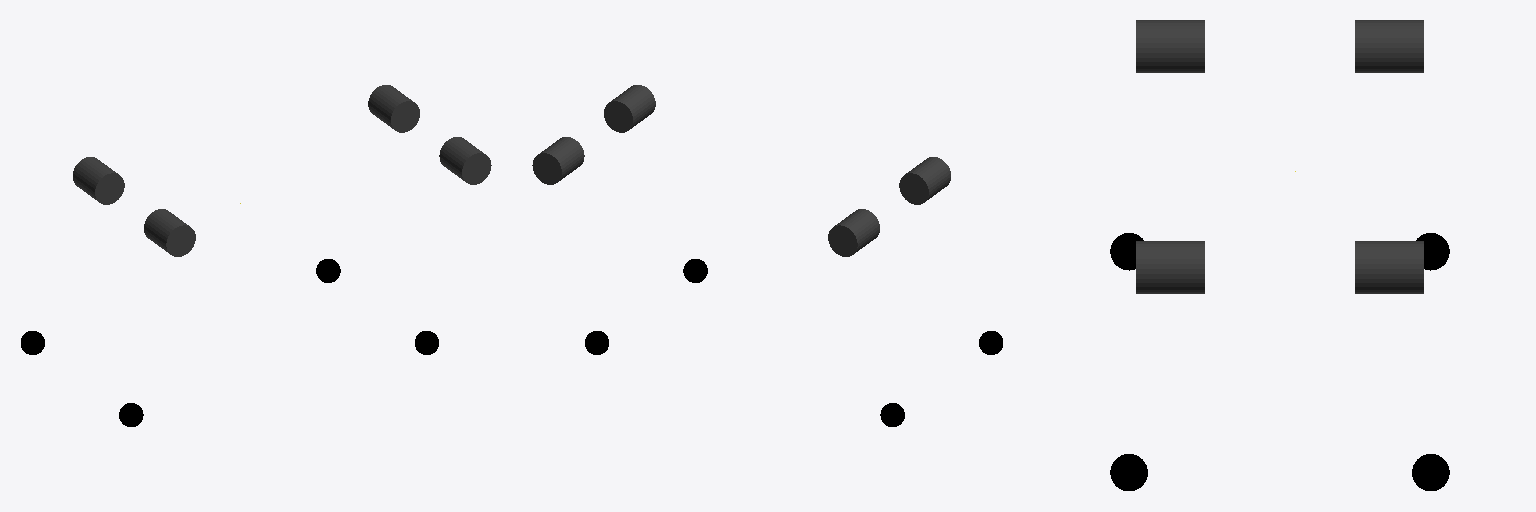
--- Facts derived from the render (not from the file) ---
The picture shows the robot from 3 angles, left to right: view 1: azimuth 30°, elevation 25°; view 2: azimuth 150°, elevation 25°; view 3: azimuth 270°, elevation 25°; orthographic projection.
Robot: hyqreal — 43 links, 42 joints (12 revolute, 30 fixed); root link base; default pose: joints at zero except 8 at the middle of their limits (FL_thigh_joint = 1.22, FL_calf_joint = -1.72, FR_thigh_joint = 1.22, FR_calf_joint = -1.72, RL_thigh_joint = 1.22, RL_calf_joint = -1.72, +2 more).
Links seen in each view (by area): view 1: RR_hip, FL_hip, FR_hip, RL_hip; view 2: RL_hip, FR_hip, FL_hip, RR_hip; view 3: FL_hip, FR_hip, RL_hip, RR_hip, FL_foot, FR_foot, RL_foot, RR_foot.
Link boxes in pixels (<box>): RR_hip: <box>144,209,195,256</box>; FL_hip: <box>368,85,419,132</box>; FR_hip: <box>439,137,491,184</box>; RL_hip: <box>73,157,124,204</box>; RL_hip: <box>828,209,879,256</box>; FR_hip: <box>604,85,655,132</box>; FL_hip: <box>532,137,584,184</box>; RR_hip: <box>899,157,950,204</box>; FL_hip: <box>1355,241,1423,293</box>; FR_hip: <box>1136,241,1204,293</box>; RL_hip: <box>1355,20,1423,72</box>; RR_hip: <box>1136,20,1204,72</box>; FL_foot: <box>1412,454,1449,490</box>; FR_foot: <box>1110,454,1147,490</box>; RL_foot: <box>1416,233,1449,270</box>; RR_foot: <box>1110,233,1143,270</box>.
Bounding box of the posed robot: 1.12 × 0.576 × 0.5332 m (x, y, z).
Meshes: 5 distinct files referenced, 0 mesh visuals loaded (none loaded); not drawn: 12 (reference not matched to a file when rendering).

URDF robot description (hyqreal):
<?xml version="1.0" ?>
<!-- =================================================================================== -->
<!-- |    This document was autogenerated by xacro from hyqreal.urdf.xacro             | -->
<!-- |    EDITING THIS FILE BY HAND IS NOT RECOMMENDED                                 | -->
<!-- =================================================================================== -->
<robot name="hyqreal" xmlns:xacro="http://ros.org/wiki/xacro">
  <!-- standard distances -->
  <!-- <xacro:property name="d_lr" value="0.414"/>
	<xacro:property name="d_fh" value="0.747"/> -->
  <!-- 0.887 1.4192-->
  <!-- ============================ IMU KVH 1775 ========================
         The xacro macro xacro:kvh_1775_imu describes the KVH 1775 IMU,
         together with its frames of reference.
         The IMU has three axes oriented along the diagonal of the mounting
         screws at the bottom, as described at page 6 of the technical manual.
         These axes have three different origins for the sensing points, one
         per axis. Therefore, we define a common origin which is located at the
         average of these three. For completeness, we include the three exact
         axes as well. -->
  <material name="aluminum">
    <color rgba="0.5 0.5 0.5 1"/>
  </material>
  <material name="black">
    <color rgba="0.0 0.0 0.0 1.0"/>
  </material>
  <material name="blue">
    <color rgba="0.0 0.0 0.8 1.0"/>
  </material>
  <material name="green">
    <color rgba="0.0 0.8 0.0 1.0"/>
  </material>
  <material name="grey">
    <color rgba="0.3 0.3 0.3 0.8"/>
  </material>
  <material name="silver">
    <color rgba="0.913725490196 0.913725490196 0.847058823529 1.0"/>
  </material>
  <material name="orange">
    <color rgba="1.0 0.423529411765 0.0392156862745 1.0"/>
  </material>
  <material name="brown">
    <color rgba="0.870588235294 0.811764705882 0.764705882353 1.0"/>
  </material>
  <material name="red">
    <color rgba="0.8 0.0 0.0 1.0"/>
  </material>
  <material name="white">
    <color rgba="1.0 1.0 1.0 1.0"/>
  </material>
  <!--xacro:include filename="$(find sensors_description)/urdfs/sensors/vlp16.urdf.xacro"/-->
  
  <!-- Floating-base Joint -->
  <link name="base">
    <visual>
      <origin rpy="0 0 0" xyz="0 0 0"/>
      <geometry>
        <box size="0.001 0.001 0.001"/>
      </geometry>
    </visual>
  </link>
  <joint name="floating_base" type="fixed">
    <origin rpy="0 0 0" xyz="0 0 0"/>
    <parent link="base"/>
    <child link="trunk"/>
  </joint>
  <!-- Trunk link -->
  <link name="trunk">
    <inertial>
      <origin xyz="-0.015 -0.00186 -0.03465"/>
      <mass value="59"/>
      <inertia ixx="1.498728" ixy="-0.007369" ixz="-0.189135" iyy="9.492381" iyz="0.000185" izz="9.012359"/>
    </inertial>
    <visual>
      <origin rpy="0 0 3.14159265359" xyz="0 0 0"/>
      <geometry>
        <mesh filename="meshes/trunk/combined_torso.dae" scale="0.001 0.001 0.001"/>
      </geometry>
      <material name="grey"/>
    </visual>
    <collision>
      <origin rpy="0 0 3.14159265359" xyz="0 0 0"/>
      <geometry>
        <mesh filename="meshes/trunk/combined_torso_decimated.obj" scale="0.001 0.001 0.001"/>
      </geometry>
    </collision>
  </link>

  <!-- Joints -->
  <!-- hip joint -->
  <joint name="FL_hip_joint" type="revolute">
    <origin rpy="3.14159265359 1.57079632679 0" xyz="0.4435 0.139 0"/>
    <parent link="trunk"/>
    <child link="FL_hip"/>
    <axis xyz="0 0 1"/>
    <dynamics damping="0.1" friction="0"/>
    <limit effort="173.0" lower="-0.733038285838" upper="0.401425727959" velocity="12.0"/>
    <safety_controller k_position="50" k_velocity="10" soft_lower_limit="-0.733038285838" soft_upper_limit="0.401425727959"/>
  </joint>
  <!-- HFE joint -->
  <joint name="FL_thigh_joint" type="revolute">
    <origin rpy="1.57079632679 0 0" xyz="0 -0.117 0"/>
    <parent link="FL_hip"/>
    <child link="FL_thigh"/>
    <axis xyz="0 0 1"/>
    <dynamics damping="0.1" friction="0"/>
    <limit effort="208" lower="0.261799387799" upper="2.18166156499" velocity="12.0"/>
    <safety_controller k_position="50" k_velocity="10" soft_lower_limit="0.261799387799" soft_upper_limit="2.18166156499"/>
  </joint>
  <!-- KFE joint -->
  <joint name="FL_calf_joint" type="revolute">
    <origin rpy="0 0 0" xyz="0.36 0 0"/>
    <parent link="FL_thigh"/>
    <child link="FL_calf"/>
    <axis xyz="0 0 1"/>
    <dynamics damping="0.1" friction="0"/>
    <limit effort="249" lower="-2.77001205584" upper="-0.669857366915" velocity="12.0"/>
    <safety_controller k_position="50.0" k_velocity="10.0" soft_lower_limit="-2.77001205584" soft_upper_limit="-0.669857366915"/>
  </joint>
  <!-- Foot joint -->
  <joint name="FL_foot_fixed" type="fixed">
    <origin rpy="1.57079632679 0 -1.57079632679" xyz="0.38 0 0"/>
    <parent link="FL_calf"/>
    <child link="FL_foot"/>
  </joint>
  <!-- Links -->
  <!-- Hip assembly link -->
  <link name="FL_hip">
    <inertial>
      <origin xyz="-0.010027 -0.010608 0.003644"/>
      <mass value="4.973275"/>
      <inertia ixx="0.011231" ixy="-0.000592" ixz="0.000225" iyy="0.015768" iyz="0.000224" izz="0.016863"/>
    </inertial>
    <visual>
      <origin rpy="0 -1.57079632679 -1.57079632679" xyz="0 -0.046 0"/>
      <geometry>
         --&gt;
				
        <cylinder length="0.117" radius="0.0444"/>
      </geometry>
      <material name="grey"/>
    </visual>
  </link>
  <!-- Upper leg link -->
  <link name="FL_thigh">
    <inertial>
      <origin xyz="0.107987 -0.011459 -0.002121"/>
      <mass value="5.877927"/>
      <inertia ixx="0.016432" ixy="0.001863" ixz="0.003897" iyy="0.075737" iyz="-0.00024" izz="0.079267"/>
    </inertial>
    <visual>
      <origin rpy="0 0 0" xyz="0 0 0"/>
      <geometry>
        <mesh filename="meshes/leg/upperleg.dae" scale="0.001 0.001 0.001"/>
      </geometry>
      <material name="grey"/>
    </visual>
    <collision>
      <origin rpy="0 0 0" xyz="0 0 0"/>
      <geometry>
        <mesh filename="meshes/leg/upperleg.obj" scale="0.001 0.001 0.001"/>
      </geometry>
    </collision>
  </link>
  <!-- Lower leg link -->
  <link name="FL_calf">
    <inertial>
      <origin xyz="0.149302 -0.003801 -0.000624"/>
      <mass value="1.291954"/>
      <inertia ixx="0.001088" ixy="-0.000572" ixz="0.000118" iyy="0.029215" iyz="0.00046" izz="0.029772"/>
    </inertial>
    <visual>
      <origin rpy="0 0 0" xyz="0 0 0"/>
      <geometry>
        <mesh filename="meshes/leg/lowerleg.dae" scale="0.001 0.001 0.001"/>
      </geometry>
      <material name="white"/>
    </visual>
    <collision>
      <origin rpy="0 0 0" xyz="0 0 0"/>
      <geometry>
        <mesh filename="meshes/leg/lowerleg_decimated.obj" scale="0.001 0.001 0.001"/>
      </geometry>
    </collision>
  </link>
  <!-- Foot link -->
  <link name="FL_foot">
    <visual>
      <origin rpy="0.0 0.0 0.0" xyz="0.0 0.0 0.0"/>
      <geometry>
        <sphere radius="0.032"/>
      </geometry>
      <material name="black"/>
    </visual>
    <collision>
      <origin rpy="0 0 0" xyz="0 0 0"/>
      <geometry>
        <sphere radius="0.032"/>
      </geometry>
    </collision>
  </link>
  <!-- Hip assembly -->
  <transmission name="FL_hip_trans">
    <type>transmission_interface/SimpleTransmission</type>
    <joint name="FL_hip_joint">
      <hardwareInterface>hardware_interface/EffortJointInterface</hardwareInterface>
    </joint>
    <actuator name="FL_hip_motor">
      <hardwareInterface>hardware_interface/EffortJointInterface</hardwareInterface>
      <mechanicalReduction>1</mechanicalReduction>
    </actuator>
  </transmission>
  <!-- Upper leg -->
  <transmission name="FL_thigh_trans">
    <type>transmission_interface/SimpleTransmission</type>
    <joint name="FL_thigh_joint">
      <hardwareInterface>hardware_interface/EffortJointInterface</hardwareInterface>
    </joint>
    <actuator name="FL_thigh_motor">
      <hardwareInterface>hardware_interface/EffortJointInterface</hardwareInterface>
      <mechanicalReduction>1</mechanicalReduction>
    </actuator>
  </transmission>
  <!-- Lower leg -->
  <transmission name="FL_calf_trans">
    <type>transmission_interface/SimpleTransmission</type>
    <joint name="FL_calf_joint">
      <hardwareInterface>hardware_interface/EffortJointInterface</hardwareInterface>
    </joint>
    <actuator name="FL_calf_motor">
      <hardwareInterface>hardware_interface/EffortJointInterface</hardwareInterface>
      <mechanicalReduction>1</mechanicalReduction>
    </actuator>
  </transmission>

  <!-- Joints -->
  <!-- hip joint -->
  <joint name="FR_hip_joint" type="revolute">
    <origin rpy="0 1.57079632679 0" xyz="0.4435 -0.139 0"/>
    <parent link="trunk"/>
    <child link="FR_hip"/>
    <axis xyz="0 0 1"/>
    <dynamics damping="0.1" friction="0"/>
    <limit effort="173.0" lower="-0.733038285838" upper="0.401425727959" velocity="12.0"/>
    <safety_controller k_position="50" k_velocity="10" soft_lower_limit="-0.733038285838" soft_upper_limit="0.401425727959"/>
  </joint>
  <!-- HFE joint -->
  <joint name="FR_thigh_joint" type="revolute">
    <origin rpy="-1.57079632679 0 0" xyz="0 -0.117 0"/>
    <parent link="FR_hip"/>
    <child link="FR_thigh"/>
    <axis xyz="0 0 1"/>
    <dynamics damping="0.1" friction="0"/>
    <limit effort="208" lower="0.261799387799" upper="2.18166156499" velocity="12.0"/>
    <safety_controller k_position="50" k_velocity="10" soft_lower_limit="0.261799387799" soft_upper_limit="2.18166156499"/>
  </joint>
  <!-- KFE joint -->
  <joint name="FR_calf_joint" type="revolute">
    <origin rpy="0 0 0" xyz="0.36 0 0"/>
    <parent link="FR_thigh"/>
    <child link="FR_calf"/>
    <axis xyz="0 0 1"/>
    <dynamics damping="0.1" friction="0"/>
    <limit effort="249" lower="-2.77001205584" upper="-0.669857366915" velocity="12.0"/>
    <safety_controller k_position="50.0" k_velocity="10.0" soft_lower_limit="-2.77001205584" soft_upper_limit="-0.669857366915"/>
  </joint>
  <!-- Foot joint -->
  <joint name="FR_foot_fixed" type="fixed">
    <origin rpy="1.57079632679 0 -1.57079632679" xyz="0.38 0 0"/>
    <parent link="FR_calf"/>
    <child link="FR_foot"/>
  </joint>
  <!-- Links -->
  <!-- Hip assembly link -->
  <link name="FR_hip">
    <inertial>
      <origin xyz="-0.010027 -0.010608 0.003644"/>
      <mass value="4.973275"/>
      <inertia ixx="0.011231" ixy="-0.000592" ixz="0.000225" iyy="0.015768" iyz="0.000224" izz="0.016863"/>
    </inertial>
    <visual>
      <origin rpy="0 -1.57079632679 -1.57079632679" xyz="0 -0.046 0"/>
      <geometry>
         --&gt;
				
        <cylinder length="0.117" radius="0.0444"/>
      </geometry>
      <material name="grey"/>
    </visual>
  </link>
  <!-- Upper leg link -->
  <link name="FR_thigh">
    <inertial>
      <origin xyz="0.107987 -0.011459 0.002121"/>
      <mass value="5.877927"/>
      <inertia ixx="0.016432" ixy="0.001863" ixz="-0.003897" iyy="0.075737" iyz="0.00024" izz="0.079267"/>
    </inertial>
    <visual>
      <origin rpy="0 0 0" xyz="0 0 0"/>
      <geometry>
        <mesh filename="meshes/leg/upperleg.dae" scale="0.001 0.001 0.001"/>
      </geometry>
      <material name="grey"/>
    </visual>
    <collision>
      <origin rpy="0 0 0" xyz="0 0 0"/>
      <geometry>
        <mesh filename="meshes/leg/upperleg.obj" scale="0.001 0.001 0.001"/>
      </geometry>
      
    </collision>
  </link>
  <!-- Lower leg link -->
  <link name="FR_calf">
    <inertial>
      <origin xyz="0.149302 -0.003801 -0.000624"/>
      <mass value="1.291954"/>
      <inertia ixx="0.001088" ixy="-0.000572" ixz="0.000118" iyy="0.029215" iyz="0.00046" izz="0.029772"/>
    </inertial>
    <visual>
      <origin rpy="0 0 0" xyz="0 0 0"/>
      <geometry>
        <mesh filename="meshes/leg/lowerleg.dae" scale="0.001 0.001 0.001"/>
      </geometry>
      <material name="white"/>
    </visual>
    <collision>
      <origin rpy="0 0 0" xyz="0 0 0"/>
      <geometry>
        <mesh filename="meshes/leg/lowerleg_decimated.obj" scale="0.001 0.001 0.001"/>
      </geometry>
    </collision>
  </link>
  <!-- Foot link -->
  <link name="FR_foot">
    <visual>
      <origin rpy="0.0 0.0 0.0" xyz="0.0 0.0 0.0"/>
      <geometry>
        <sphere radius="0.032"/>
      </geometry>
      <material name="black"/>
    </visual>
    <collision>
      <origin rpy="0 0 0" xyz="0 0 0"/>
      <geometry>
        <sphere radius="0.032"/>
      </geometry>
    </collision>
  </link>
  <!-- Hip assembly -->
  <transmission name="FR_hip_trans">
    <type>transmission_interface/SimpleTransmission</type>
    <joint name="FR_hip_joint">
      <hardwareInterface>hardware_interface/EffortJointInterface</hardwareInterface>
    </joint>
    <actuator name="FR_hip_motor">
      <hardwareInterface>hardware_interface/EffortJointInterface</hardwareInterface>
      <mechanicalReduction>1</mechanicalReduction>
    </actuator>
  </transmission>
  <!-- Upper leg -->
  <transmission name="FR_thigh_trans">
    <type>transmission_interface/SimpleTransmission</type>
    <joint name="FR_thigh_joint">
      <hardwareInterface>hardware_interface/EffortJointInterface</hardwareInterface>
    </joint>
    <actuator name="FR_thigh_motor">
      <hardwareInterface>hardware_interface/EffortJointInterface</hardwareInterface>
      <mechanicalReduction>1</mechanicalReduction>
    </actuator>
  </transmission>
  <!-- Lower leg -->
  <transmission name="FR_calf_trans">
    <type>transmission_interface/SimpleTransmission</type>
    <joint name="FR_calf_joint">
      <hardwareInterface>hardware_interface/EffortJointInterface</hardwareInterface>
    </joint>
    <actuator name="FR_calf_motor">
      <hardwareInterface>hardware_interface/EffortJointInterface</hardwareInterface>
      <mechanicalReduction>1</mechanicalReduction>
    </actuator>
  </transmission>
 
   <!-- Joints -->
  <!-- hip joint -->
  <joint name="RL_hip_joint" type="revolute">
    <origin rpy="3.14159265359 1.57079632679 0" xyz="-0.4435 0.139 0"/>
    <parent link="trunk"/>
    <child link="RL_hip"/>
    <axis xyz="0 0 1"/>
    <dynamics damping="0.1" friction="0"/>
    <limit effort="173.0" lower="-0.733038285838" upper="0.401425727959" velocity="12.0"/>
    <safety_controller k_position="50" k_velocity="10" soft_lower_limit="-0.733038285838" soft_upper_limit="0.401425727959"/>
  </joint>
  <!-- HFE joint -->
  <joint name="RL_thigh_joint" type="revolute">
    <origin rpy="1.57079632679 0 0" xyz="0 -0.117 0"/>
    <parent link="RL_hip"/>
    <child link="RL_thigh"/>
    <axis xyz="0 0 1"/>
    <dynamics damping="0.1" friction="0"/>
    <limit effort="208" lower="0.261799387799" upper="2.18166156499" velocity="12.0"/>
    <safety_controller k_position="50" k_velocity="10" soft_lower_limit="0.261799387799" soft_upper_limit="2.18166156499"/>
  </joint>
  <!-- KFE joint -->
  <joint name="RL_calf_joint" type="revolute">
    <origin rpy="0 0 0" xyz="0.36 0 0"/>
    <parent link="RL_thigh"/>
    <child link="RL_calf"/>
    <axis xyz="0 0 1"/>
    <dynamics damping="0.1" friction="0"/>
    <limit effort="249" lower="-2.77001205584" upper="-0.669857366915" velocity="12.0"/>
    <safety_controller k_position="50.0" k_velocity="10.0" soft_lower_limit="-2.77001205584" soft_upper_limit="-0.669857366915"/>
  </joint>
  <!-- Foot joint -->
  <joint name="RL_foot_fixed" type="fixed">
    <origin rpy="1.57079632679 0 -1.57079632679" xyz="0.38 0 0"/>
    <parent link="RL_calf"/>
    <child link="RL_foot"/>
  </joint>
  <!-- Links -->
  <!-- Hip assembly link -->
  <link name="RL_hip">
    <inertial>
      <origin xyz="-0.010027 -0.010608 0.003644"/>
      <mass value="4.973275"/>
      <inertia ixx="0.011231" ixy="-0.000592" ixz="0.000225" iyy="0.015768" iyz="0.000224" izz="0.016863"/>
    </inertial>
    <visual>
      <origin rpy="0 -1.57079632679 -1.57079632679" xyz="0 -0.046 0"/>
      <geometry>
         --&gt;
				
        <cylinder length="0.117" radius="0.0444"/>
      </geometry>
      <material name="grey"/>
    </visual>
  </link>
  <!-- Upper leg link -->
  <link name="RL_thigh">
    <inertial>
      <origin xyz="0.107987 -0.011459 -0.002121"/>
      <mass value="5.877927"/>
      <inertia ixx="0.016432" ixy="0.001863" ixz="0.003897" iyy="0.075737" iyz="-0.00024" izz="0.079267"/>
    </inertial>
    <visual>
      <origin rpy="0 0 0" xyz="0 0 0"/>
      <geometry>
        <mesh filename="meshes/leg/upperleg.dae" scale="0.001 0.001 0.001"/>
      </geometry>
      <material name="grey"/>
    </visual>
    <collision>
      <origin rpy="0 0 0" xyz="0 0 0"/>
      <geometry>
        <mesh filename="meshes/leg/upperleg.obj" scale="0.001 0.001 0.001"/>
      </geometry>
      
    </collision>
  </link>
  <!-- Lower leg link -->
  <link name="RL_calf">
    <inertial>
      <origin xyz="0.149302 -0.003801 -0.000624"/>
      <mass value="1.291954"/>
      <inertia ixx="0.001088" ixy="-0.000572" ixz="0.000118" iyy="0.029215" iyz="0.00046" izz="0.029772"/>
    </inertial>
    <visual>
      <origin rpy="0 0 0" xyz="0 0 0"/>
      <geometry>
        <mesh filename="meshes/leg/lowerleg.dae" scale="0.001 0.001 0.001"/>
      </geometry>
      <material name="white"/>
    </visual>
    <collision>
      <origin rpy="0 0 0" xyz="0 0 0"/>
      <geometry>
        <mesh filename="meshes/leg/lowerleg_decimated.obj" scale="0.001 0.001 0.001"/>
      </geometry>
    </collision>
  </link>
  <!-- Foot link -->
  <link name="RL_foot">
    <visual>
      <origin rpy="0.0 0.0 0.0" xyz="0.0 0.0 0.0"/>
      <geometry>
        <sphere radius="0.032"/>
      </geometry>
      <material name="black"/>
    </visual>
    <collision>
      <origin rpy="0 0 0" xyz="0 0 0"/>
      <geometry>
        <sphere radius="0.032"/>
      </geometry>
    </collision>
  </link>
  <!-- Hip assembly -->
  <transmission name="RL_hip_trans">
    <type>transmission_interface/SimpleTransmission</type>
    <joint name="RL_hip_joint">
      <hardwareInterface>hardware_interface/EffortJointInterface</hardwareInterface>
    </joint>
    <actuator name="RL_hip_motor">
      <hardwareInterface>hardware_interface/EffortJointInterface</hardwareInterface>
      <mechanicalReduction>1</mechanicalReduction>
    </actuator>
  </transmission>
  <!-- Upper leg -->
  <transmission name="RL_thigh_trans">
    <type>transmission_interface/SimpleTransmission</type>
    <joint name="RL_thigh_joint">
      <hardwareInterface>hardware_interface/EffortJointInterface</hardwareInterface>
    </joint>
    <actuator name="RL_thigh_motor">
      <hardwareInterface>hardware_interface/EffortJointInterface</hardwareInterface>
      <mechanicalReduction>1</mechanicalReduction>
    </actuator>
  </transmission>
  <!-- Lower leg -->
  <transmission name="RL_calf_trans">
    <type>transmission_interface/SimpleTransmission</type>
    <joint name="RL_calf_joint">
      <hardwareInterface>hardware_interface/EffortJointInterface</hardwareInterface>
    </joint>
    <actuator name="RL_calf_motor">
      <hardwareInterface>hardware_interface/EffortJointInterface</hardwareInterface>
      <mechanicalReduction>1</mechanicalReduction>
    </actuator>
  </transmission>
  
  <!-- Joints -->
  <!-- hip joint -->
  <joint name="RR_hip_joint" type="revolute">
    <origin rpy="0 1.57079632679 0" xyz="-0.4435 -0.139 0"/>
    <parent link="trunk"/>
    <child link="RR_hip"/>
    <axis xyz="0 0 1"/>
    <dynamics damping="0.1" friction="0"/>
    <limit effort="173.0" lower="-0.733038285838" upper="0.401425727959" velocity="12.0"/>
    <safety_controller k_position="50" k_velocity="10" soft_lower_limit="-0.733038285838" soft_upper_limit="0.401425727959"/>
  </joint>
  <!-- HFE joint -->
  <joint name="RR_thigh_joint" type="revolute">
    <origin rpy="-1.57079632679 0 0" xyz="0 -0.117 0"/>
    <parent link="RR_hip"/>
    <child link="RR_thigh"/>
    <axis xyz="0 0 1"/>
    <dynamics damping="0.1" friction="0"/>
    <limit effort="208" lower="0.261799387799" upper="2.18166156499" velocity="12.0"/>
    <safety_controller k_position="50" k_velocity="10" soft_lower_limit="0.261799387799" soft_upper_limit="2.18166156499"/>
  </joint>
  <!-- KFE joint -->
  <joint name="RR_calf_joint" type="revolute">
    <origin rpy="0 0 0" xyz="0.36 0 0"/>
    <parent link="RR_thigh"/>
    <child link="RR_calf"/>
    <axis xyz="0 0 1"/>
    <dynamics damping="0.1" friction="0"/>
    <limit effort="249" lower="-2.77001205584" upper="-0.669857366915" velocity="12.0"/>
    <safety_controller k_position="50.0" k_velocity="10.0" soft_lower_limit="-2.77001205584" soft_upper_limit="-0.669857366915"/>
  </joint>
  <!-- Foot joint -->
  <joint name="RR_foot_fixed" type="fixed">
    <origin rpy="1.57079632679 0 -1.57079632679" xyz="0.38 0 0"/>
    <parent link="RR_calf"/>
    <child link="RR_foot"/>
  </joint>
  <!-- Links -->
  <!-- Hip assembly link -->
  <link name="RR_hip">
    <inertial>
      <origin xyz="-0.010027 -0.010608 0.003644"/>
      <mass value="4.973275"/>
      <inertia ixx="0.011231" ixy="-0.000592" ixz="0.000225" iyy="0.015768" iyz="0.000224" izz="0.016863"/>
    </inertial>
    <visual>
      <origin rpy="0 -1.57079632679 -1.57079632679" xyz="0 -0.046 0"/>
      <geometry>
         --&gt;
				
        <cylinder length="0.117" radius="0.0444"/>
      </geometry>
      <material name="grey"/>
    </visual>
  </link>
  <!-- Upper leg link -->
  <link name="RR_thigh">
    <inertial>
      <origin xyz="0.107987 -0.011459 0.002121"/>
      <mass value="5.877927"/>
      <inertia ixx="0.016432" ixy="0.001863" ixz="-0.003897" iyy="0.075737" iyz="0.00024" izz="0.079267"/>
    </inertial>
    <visual>
      <origin rpy="0 0 0" xyz="0 0 0"/>
      <geometry>
        <mesh filename="meshes/leg/upperleg.dae" scale="0.001 0.001 0.001"/>
      </geometry>
      <material name="grey"/>
    </visual>
    <collision>
      <origin rpy="0 0 0" xyz="0 0 0"/>
      <geometry>
        <mesh filename="meshes/leg/upperleg.obj" scale="0.001 0.001 0.001"/>
      </geometry>
    </collision>
  </link>
  <!-- Lower leg link -->
  <link name="RR_calf">
    <inertial>
      <origin xyz="0.149302 -0.003801 -0.000624"/>
      <mass value="1.291954"/>
      <inertia ixx="0.001088" ixy="-0.000572" ixz="0.000118" iyy="0.029215" iyz="0.00046" izz="0.029772"/>
    </inertial>
    <visual>
      <origin rpy="0 0 0" xyz="0 0 0"/>
      <geometry>
        <mesh filename="meshes/leg/lowerleg.dae" scale="0.001 0.001 0.001"/>
      </geometry>
      <material name="white"/>
    </visual>
    <collision>
      <origin rpy="0 0 0" xyz="0 0 0"/>
      <geometry>
        <mesh filename="meshes/leg/lowerleg_decimated.obj" scale="0.001 0.001 0.001"/>
      </geometry>
    </collision>
  </link>
  <!-- Foot link -->
  <link name="RR_foot">
    <visual>
      <origin rpy="0.0 0.0 0.0" xyz="0.0 0.0 0.0"/>
      <geometry>
        <sphere radius="0.032"/>
      </geometry>
      <material name="black"/>
    </visual>
    <collision>
      <origin rpy="0 0 0" xyz="0 0 0"/>
      <geometry>
        <sphere radius="0.032"/>
      </geometry>
    </collision>
  </link>
  <!-- Hip assembly -->
  <transmission name="RR_hip_trans">
    <type>transmission_interface/SimpleTransmission</type>
    <joint name="RR_hip_joint">
      <hardwareInterface>hardware_interface/EffortJointInterface</hardwareInterface>
    </joint>
    <actuator name="RR_hip_motor">
      <hardwareInterface>hardware_interface/EffortJointInterface</hardwareInterface>
      <mechanicalReduction>1</mechanicalReduction>
    </actuator>
  </transmission>
  <!-- Upper leg -->
  <transmission name="RR_thigh_trans">
    <type>transmission_interface/SimpleTransmission</type>
    <joint name="RR_thigh_joint">
      <hardwareInterface>hardware_interface/EffortJointInterface</hardwareInterface>
    </joint>
    <actuator name="RR_thigh_motor">
      <hardwareInterface>hardware_interface/EffortJointInterface</hardwareInterface>
      <mechanicalReduction>1</mechanicalReduction>
    </actuator>
  </transmission>
  <!-- Lower leg -->
  <transmission name="RR_calf_trans">
    <type>transmission_interface/SimpleTransmission</type>
    <joint name="RR_calf_joint">
      <hardwareInterface>hardware_interface/EffortJointInterface</hardwareInterface>
    </joint>
    <actuator name="RR_calf_motor">
      <hardwareInterface>hardware_interface/EffortJointInterface</hardwareInterface>
      <mechanicalReduction>1</mechanicalReduction>
    </actuator>
  </transmission>
  
  
  <!-- Joint connecting the mount point of the IMU to the robot -->
  <joint name="trunk_imu_mount_joint" type="fixed">
    <origin rpy="3.14159265359 0 0" xyz="-0.1098 0 -0.045"/>
    <parent link="trunk"/>
    <child link="trunk_imu_mount"/>
  </joint>
  <!-- Fake joint connecting the mount point of the IMU to the
                     average sensing frame of the IMU -->
  <joint name="trunk_imu_joint" type="fixed">
    <origin rpy="0 0 0" xyz="-0.017066667 -0.013 0.038366667"/>
    <parent link="trunk_imu_mount"/>
    <child link="trunk_imu"/>
  </joint>
  <!-- Fake joint connecting the mount point of the IMU to
                     the sensing point for the x-axis -->
  <joint name="trunk_imu_sensing_point_x_joint" type="fixed">
    <origin rpy="0 0 0" xyz="0 -0.0263 0.0336"/>
    <parent link="trunk_imu_mount"/>
    <child link="trunk_imu_sensing_point_x"/>
  </joint>
  <!-- Fake joint connecting the mount point of the IMU to
                     the sensing point for the x-axis -->
  <joint name="trunk_imu_sensing_point_y_joint" type="fixed">
    <origin rpy="0 0 0" xyz="-0.0256 -0.0121 0.0372"/>
    <parent link="trunk_imu_mount"/>
    <child link="trunk_imu_sensing_point_y"/>
  </joint>
  <!-- Fake joint connecting the mount point of the IMU to
                the sensing point for the x-axis -->
  <joint name="trunk_imu_sensing_point_z_joint" type="fixed">
    <origin rpy="0 0 0" xyz="-0.0256 -0.0006 0.0443"/>
    <parent link="trunk_imu_mount"/>
    <child link="trunk_imu_sensing_point_z"/>
  </joint>
  <!-- Fake link expressing the average sensing reference frame -->
  <link name="trunk_imu">
    <inertial>
      <mass value="0.000"/>
      <origin rpy="0 0 0" xyz="0 0 0"/>
      <inertia ixx="0.00" ixy="0.0" ixz="0.0" iyy="0.00" iyz="0.0" izz="0.00"/>
    </inertial>
    <visual>
      <!-- fake visual to let URDF parser happy -->
      <geometry>
        <sphere radius="0.0005"/>
      </geometry>
    </visual>
  </link>
  <!-- Fake link exactly located at the sensing point for the x-axis -->
  <link name="trunk_imu_sensing_point_x">
    <inertial>
      <mass value="0.000"/>
      <origin rpy="0 0 0" xyz="0 0 0"/>
      <inertia ixx="0.00" ixy="0.0" ixz="0.0" iyy="0.00" iyz="0.0" izz="0.00"/>
    </inertial>
    <visual>
      <!-- fake visual to let URDF parser happy -->
      <geometry>
        <sphere radius="0.0005"/>
      </geometry>
    </visual>
  </link>
  <!-- Fake link expressing the exact sensing point for the y-axis -->
  <link name="trunk_imu_sensing_point_y">
    <inertial>
      <mass value="0.000"/>
      <origin rpy="0 0 0" xyz="0 0 0"/>
      <inertia ixx="0.00" ixy="0.0" ixz="0.0" iyy="0.00" iyz="0.0" izz="0.00"/>
    </inertial>
    <visual>
      <!-- fake visual to let URDF parser happy -->
      <geometry>
        <sphere radius="0.0005"/>
      </geometry>
    </visual>
  </link>
  <!-- Fake link expressing the exact sensing point for the z-axis -->
  <link name="trunk_imu_sensing_point_z">
    <inertial>
      <mass value="0.000"/>
      <origin rpy="0 0 0" xyz="0 0 0"/>
      <inertia ixx="0.00" ixy="0.0" ixz="0.0" iyy="0.00" iyz="0.0" izz="0.00"/>
    </inertial>
    <visual>
      <!-- fake visual to let URDF parser happy -->
      <geometry>
        <sphere radius="0.0005"/>
      </geometry>
    </visual>
  </link>
  <!-- Link -->
  <link name="trunk_imu_mount">
    <inertial>
      <!-- CoM from technical document, rotated by pi/4 -->
      <origin xyz="-0.001697056  -0.001414214  0.0328"/>
      <mass value="0.69"/>
      <!-- izz = 0.5 * 0.69 * (88.9 / 2 / 1000)^2 -->
      <!-- ixx = iyy = 1/12*0.69*(3*(88.9/2000)^2+(73.7/1000)^2) -->
      <inertia ixx="0.000653148" ixy="0.0" ixz="0.0" iyy="0.000653148" iyz="0.0" izz="0.000681652"/>
    </inertial>
    <visual>
      <origin rpy="0 0 0" xyz="0.0 0.0 0.0"/>
      <geometry>
        <mesh filename="sensors_description/meshes/sensors/kvh_1775.dae" scale="1 1 1"/>
      </geometry>
      <material name="aluminium">
        <color rgba="0.35 0.35 0.35 1"/>
      </material>
    </visual>
  </link>

  <!-- camera body, with origin at bottom screw mount -->
  <joint name="realsense/front/trunkcamera_joint" type="fixed">
    <origin rpy="-0.005878588 0.7692766 -0.01176524" xyz="0.6958928 0.01937854 -0.0968919"/>
    <parent link="trunk"/>
    <child link="realsense/front/camera_bottom_screw_frame"/>
  </joint>
  <link name="realsense/front/camera_bottom_screw_frame"/>
  <joint name="realsense/front/camera_link_joint" type="fixed">
    <origin rpy="0 0 0" xyz="0 0.0175 0.0125"/>
    <parent link="realsense/front/camera_bottom_screw_frame"/>
    <child link="realsense/front/camera_link"/>
  </joint>
  <link name="realsense/front/camera_link">
    <visual>
      <origin rpy="1.57079632679 0 1.57079632679" xyz="0.0149 -0.0175 0"/>
      <geometry>
        <!--box size="${d435_cam_width} ${d435_cam_height} ${d435_cam_depth}"/-->
        <mesh filename="realsense2_description/meshes/d435.dae"/>
      </geometry>
      <material name="aluminum"/>
    </visual>
    <collision>
      <!--origin xyz="0.0 0.0 ${r430_cam_height/2}" rpy="0 0 0"/-->
      <origin rpy="0 0 0" xyz="0 -0.0175 0"/>
      <geometry>
        <box size="0.02505 0.09 0.025"/>
      </geometry>
    </collision>
    <!-- The following are not reliable values, and should not be used for modeling -->
    <inertial>
      <mass value="0.07"/>
      <origin xyz="0 0 0"/>
      <inertia ixx="0.003881243" ixy="0.0" ixz="0.0" iyy="0.000498940" iyz="0.0" izz="0.003879257"/>
    </inertial>
  </link>
  <!-- camera depth joints and links -->
  <joint name="realsense/front/camera_depth_joint" type="fixed">
    <origin rpy="0 0 0" xyz="0 0 0"/>
    <parent link="realsense/front/camera_link"/>
    <child link="realsense/front/camera_depth_frame"/>
  </joint>
  <link name="realsense/front/camera_depth_frame"/>
  <joint name="realsense/front/camera_depth_optical_joint" type="fixed">
    <origin rpy="-1.57079632679 0 -1.57079632679" xyz="0 0 0"/>
    <parent link="realsense/front/camera_depth_frame"/>
    <child link="realsense/front/camera_depth_optical_frame"/>
  </joint>
  <link name="realsense/front/camera_depth_optical_frame"/>
  <!-- camera left IR joints and links -->
  <joint name="realsense/front/camera_left_ir_joint" type="fixed">
    <origin rpy="0 0 0" xyz="0 0.0 0"/>
    <parent link="realsense/front/camera_depth_frame"/>
    <child link="realsense/front/camera_left_ir_frame"/>
  </joint>
  <link name="realsense/front/camera_left_ir_frame"/>
  <joint name="realsense/front/camera_left_ir_optical_joint" type="fixed">
    <origin rpy="-1.57079632679 0 -1.57079632679" xyz="0 0 0"/>
    <parent link="realsense/front/camera_left_ir_frame"/>
    <child link="realsense/front/camera_left_ir_optical_frame"/>
  </joint>
  <link name="realsense/front/camera_left_ir_optical_frame"/>
  <!-- camera right IR joints and links -->
  <joint name="realsense/front/camera_right_ir_joint" type="fixed">
    <origin rpy="0 0 0" xyz="0 -0.05 0"/>
    <parent link="realsense/front/camera_depth_frame"/>
    <child link="realsense/front/camera_right_ir_frame"/>
  </joint>
  <link name="realsense/front/camera_right_ir_frame"/>
  <joint name="realsense/front/camera_right_ir_optical_joint" type="fixed">
    <origin rpy="-1.57079632679 0 -1.57079632679" xyz="0 0 0"/>
    <parent link="realsense/front/camera_right_ir_frame"/>
    <child link="realsense/front/camera_right_ir_optical_frame"/>
  </joint>
  <link name="realsense/front/camera_right_ir_optical_frame"/>
  <!-- camera color joints and links -->
  <joint name="realsense/front/camera_color_joint" type="fixed">
    <origin rpy="0 0 0" xyz="0 0.015 0"/>
    <parent link="realsense/front/camera_depth_frame"/>
    <child link="realsense/front/camera_color_frame"/>
  </joint>
  <link name="realsense/front/camera_color_frame"/>
  <joint name="realsense/front/camera_color_optical_joint" type="fixed">
    <origin rpy="-1.57079632679 0 -1.57079632679" xyz="0 0 0"/>
    <parent link="realsense/front/camera_color_frame"/>
    <child link="realsense/front/camera_color_optical_frame"/>
  </joint>
  <link name="realsense/front/camera_color_optical_frame"/>
  
  <!-- camera body, with origin at bottom screw mount -->
  <joint name="realsense/back/trunkcamera_joint" type="fixed">
    <origin rpy="0 0.785398163397 3.14159" xyz="-0.499873 -0.0000425 -0.109535"/>
    <parent link="trunk"/>
    <child link="realsense/back/camera_bottom_screw_frame"/>
  </joint>
  <link name="realsense/back/camera_bottom_screw_frame"/>
  <joint name="realsense/back/camera_link_joint" type="fixed">
    <origin rpy="0 0 0" xyz="0 0.0175 0.0125"/>
    <parent link="realsense/back/camera_bottom_screw_frame"/>
    <child link="realsense/back/camera_link"/>
  </joint>
  <link name="realsense/back/camera_link">
    <visual>
      <origin rpy="1.57079632679 0 1.57079632679" xyz="0.0149 -0.0175 0"/>
      <geometry>
        <!--box size="${d435_cam_width} ${d435_cam_height} ${d435_cam_depth}"/-->
        <mesh filename="realsense2_description/meshes/d435.dae"/>
      </geometry>
      <material name="aluminum"/>
    </visual>
    <collision>
      <!--origin xyz="0.0 0.0 ${r430_cam_height/2}" rpy="0 0 0"/-->
      <origin rpy="0 0 0" xyz="0 -0.0175 0"/>
      <geometry>
        <box size="0.02505 0.09 0.025"/>
      </geometry>
    </collision>
    <!-- The following are not reliable values, and should not be used for modeling -->
    <inertial>
      <mass value="0.07"/>
      <origin xyz="0 0 0"/>
      <inertia ixx="0.003881243" ixy="0.0" ixz="0.0" iyy="0.000498940" iyz="0.0" izz="0.003879257"/>
    </inertial>
  </link>
  <!-- camera depth joints and links -->
  <joint name="realsense/back/camera_depth_joint" type="fixed">
    <origin rpy="0 0 0" xyz="0 0 0"/>
    <parent link="realsense/back/camera_link"/>
    <child link="realsense/back/camera_depth_frame"/>
  </joint>
  <link name="realsense/back/camera_depth_frame"/>
  <joint name="realsense/back/camera_depth_optical_joint" type="fixed">
    <origin rpy="-1.57079632679 0 -1.57079632679" xyz="0 0 0"/>
    <parent link="realsense/back/camera_depth_frame"/>
    <child link="realsense/back/camera_depth_optical_frame"/>
  </joint>
  <link name="realsense/back/camera_depth_optical_frame"/>
  <!-- camera left IR joints and links -->
  <joint name="realsense/back/camera_left_ir_joint" type="fixed">
    <origin rpy="0 0 0" xyz="0 0.0 0"/>
    <parent link="realsense/back/camera_depth_frame"/>
    <child link="realsense/back/camera_left_ir_frame"/>
  </joint>
  <link name="realsense/back/camera_left_ir_frame"/>
  <joint name="realsense/back/camera_left_ir_optical_joint" type="fixed">
    <origin rpy="-1.57079632679 0 -1.57079632679" xyz="0 0 0"/>
    <parent link="realsense/back/camera_left_ir_frame"/>
    <child link="realsense/back/camera_left_ir_optical_frame"/>
  </joint>
  <link name="realsense/back/camera_left_ir_optical_frame"/>
  <!-- camera right IR joints and links -->
  <joint name="realsense/back/camera_right_ir_joint" type="fixed">
    <origin rpy="0 0 0" xyz="0 -0.05 0"/>
    <parent link="realsense/back/camera_depth_frame"/>
    <child link="realsense/back/camera_right_ir_frame"/>
  </joint>
  <link name="realsense/back/camera_right_ir_frame"/>
  <joint name="realsense/back/camera_right_ir_optical_joint" type="fixed">
    <origin rpy="-1.57079632679 0 -1.57079632679" xyz="0 0 0"/>
    <parent link="realsense/back/camera_right_ir_frame"/>
    <child link="realsense/back/camera_right_ir_optical_frame"/>
  </joint>
  <link name="realsense/back/camera_right_ir_optical_frame"/>
  <!-- camera color joints and links -->
  <joint name="realsense/back/camera_color_joint" type="fixed">
    <origin rpy="0 0 0" xyz="0 0.015 0"/>
    <parent link="realsense/back/camera_depth_frame"/>
    <child link="realsense/back/camera_color_frame"/>
  </joint>
  <link name="realsense/back/camera_color_frame"/>
  <joint name="realsense/back/camera_color_optical_joint" type="fixed">
    <origin rpy="-1.57079632679 0 -1.57079632679" xyz="0 0 0"/>
    <parent link="realsense/back/camera_color_frame"/>
    <child link="realsense/back/camera_color_optical_frame"/>
  </joint>
  <link name="realsense/back/camera_color_optical_frame"/>

  <!--xacro:VLP-16 parent="trunk">
		<origin xyz="-0.349709 0.0 0.277910" rpy="0 ${-15*PI/180} 0"/> 
	    </xacro:VLP-16-->
  <!--xacro:new_calibration_plate_xacro parent="FL_calf"-->
  <!--origin xyz="0.393 -0.023 -0.1" rpy="${PI/2} 0 0"/-->
  <!--origin xyz="0.3588117 -0.0304911 -0.2088889" rpy="${PI/2} 0 -0.137881"/>
  </xacro:new_calibration_plate_xacro-->
</robot>
